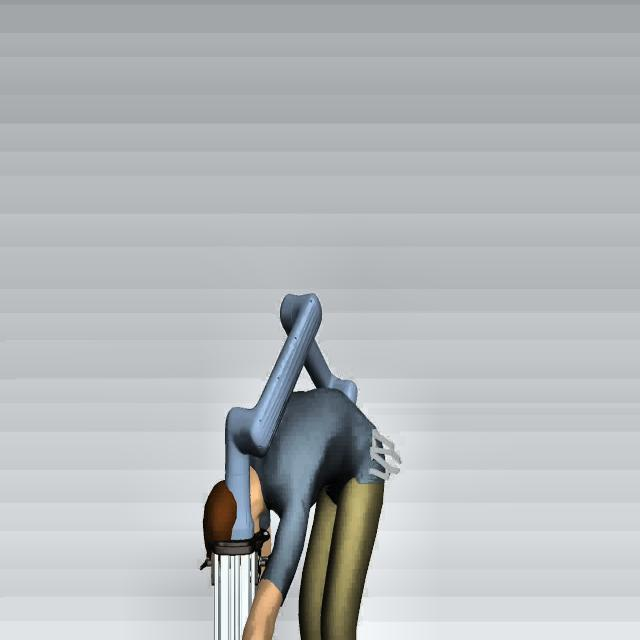human: (200, 378, 396, 640)
robot: (222, 295, 361, 544)
